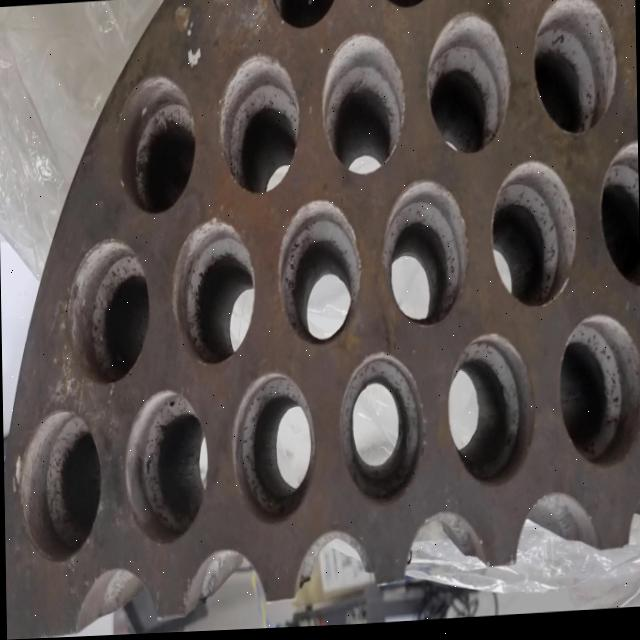Hole: (444, 334, 534, 492), (12, 407, 102, 564), (120, 388, 208, 547), (336, 352, 424, 511), (228, 371, 316, 529), (379, 179, 468, 333), (555, 316, 640, 474), (488, 162, 576, 314), (274, 199, 362, 348), (64, 236, 150, 388), (423, 13, 510, 161), (170, 218, 254, 370), (530, 0, 618, 142), (320, 33, 405, 179), (216, 54, 300, 199), (118, 75, 196, 217), (597, 145, 640, 299), (268, 0, 344, 36)
